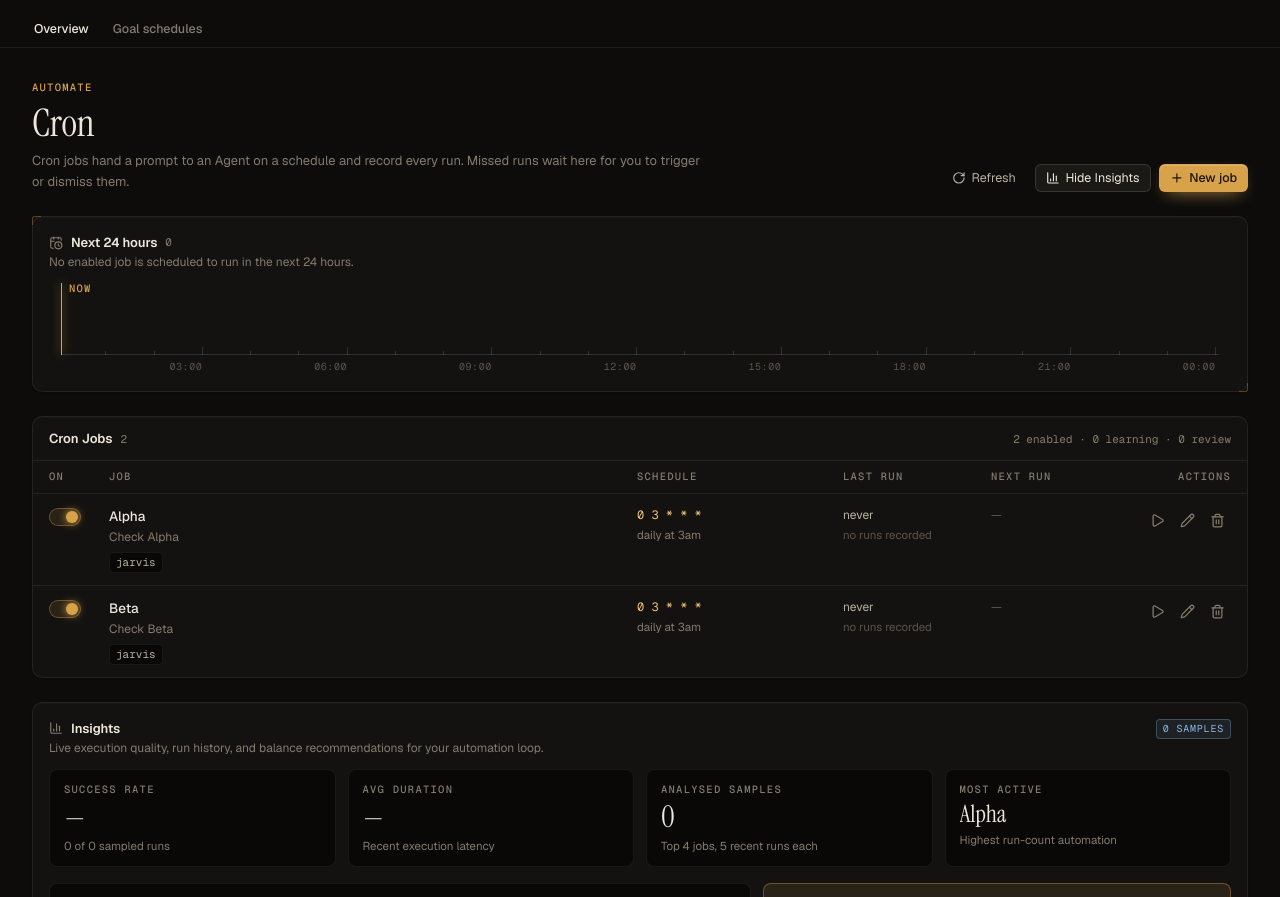
Test: Cron operational mutation coordination › treats an already-claimed run as no new run, not a failure
The width and height of the screenshot is (1280, 897).
Expected: the 1st text "Alpha" is shown, [109, 506, 145, 526]
Click the button named "Run Alpha" at [1157, 520], box [1143, 506, 1171, 534]
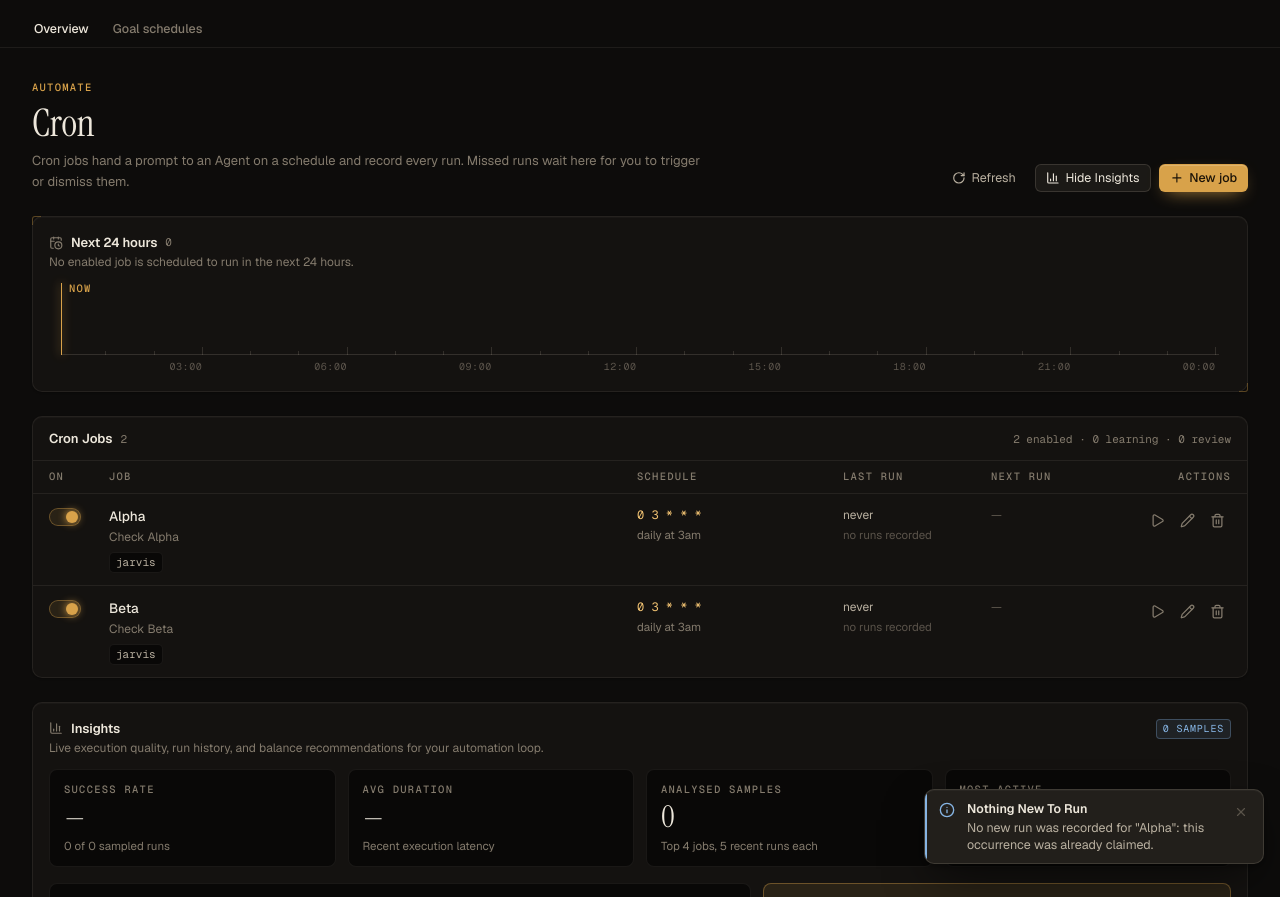
Expected: the text "No new run was recorded for \"Alpha\"" is shown, [967, 819, 1204, 853]
